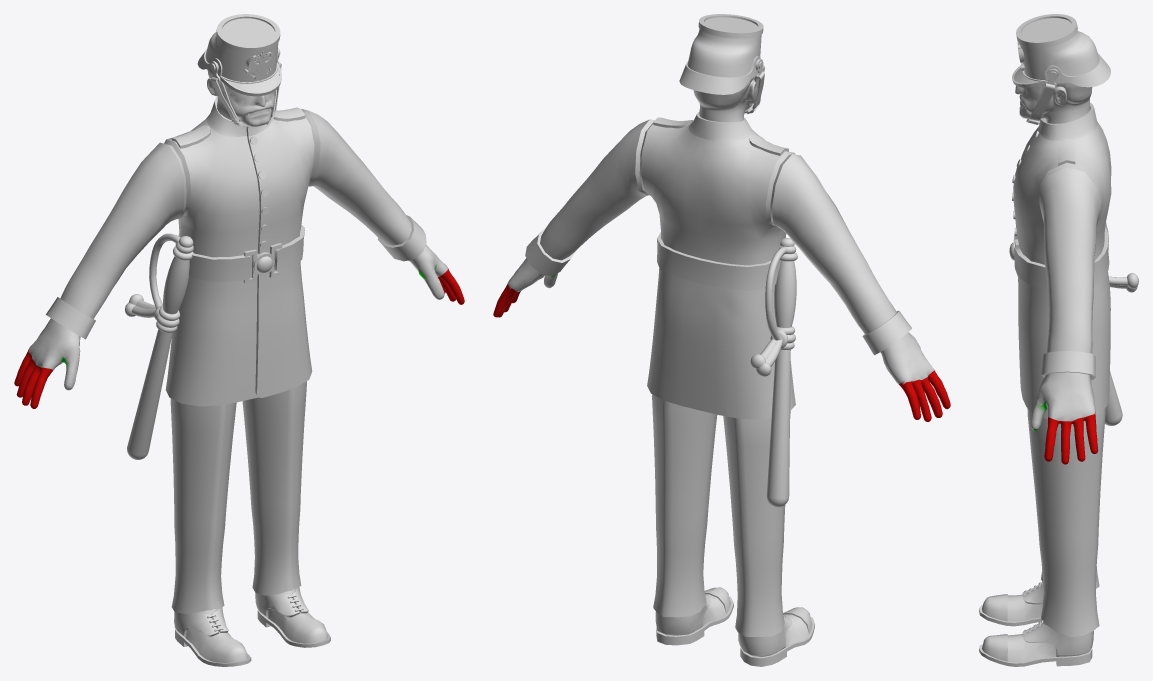
File: NPC_PoliceOfficer.fbx
3 renders of one model, left to right at view 1: azimuth 30°, elevation 25°; view 2: azimuth 150°, elevation 25°; view 3: azimuth 270°, elevation 25°, orthographic.
Parts seen in each view (by area): view 1: PoliceOfficer; view 2: PoliceOfficer; view 3: PoliceOfficer.
Part boxes in pixels (x1=…): PoliceOfficer: x1=14, y1=14, x2=464, y2=666; PoliceOfficer: x1=493, y1=14, x2=950, y2=666; PoliceOfficer: x1=979, y1=14, x2=1138, y2=666.
Bounding box in the file's own units: 135 × 181 × 42.9.
